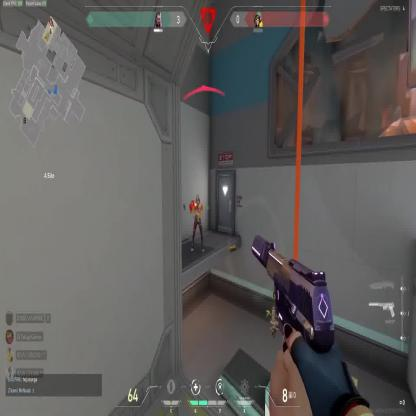enemy: (189, 194, 205, 252)
enemy_head: (196, 194, 200, 204)
